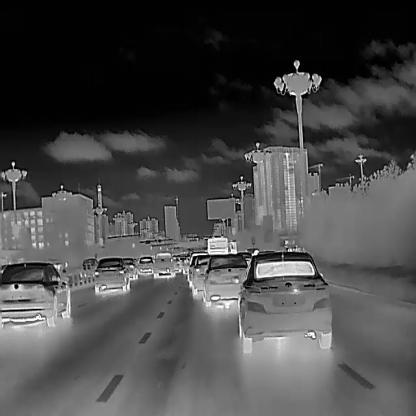car: (237, 250, 332, 354), (0, 262, 71, 328), (202, 254, 248, 307), (93, 255, 130, 295), (191, 253, 211, 295), (152, 250, 174, 278), (206, 236, 228, 254), (121, 256, 138, 279), (136, 255, 154, 275), (188, 254, 198, 286), (82, 256, 98, 271), (171, 254, 181, 272), (182, 258, 190, 274), (228, 241, 237, 254)
